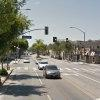Traffic light: (37, 21, 74, 44)
